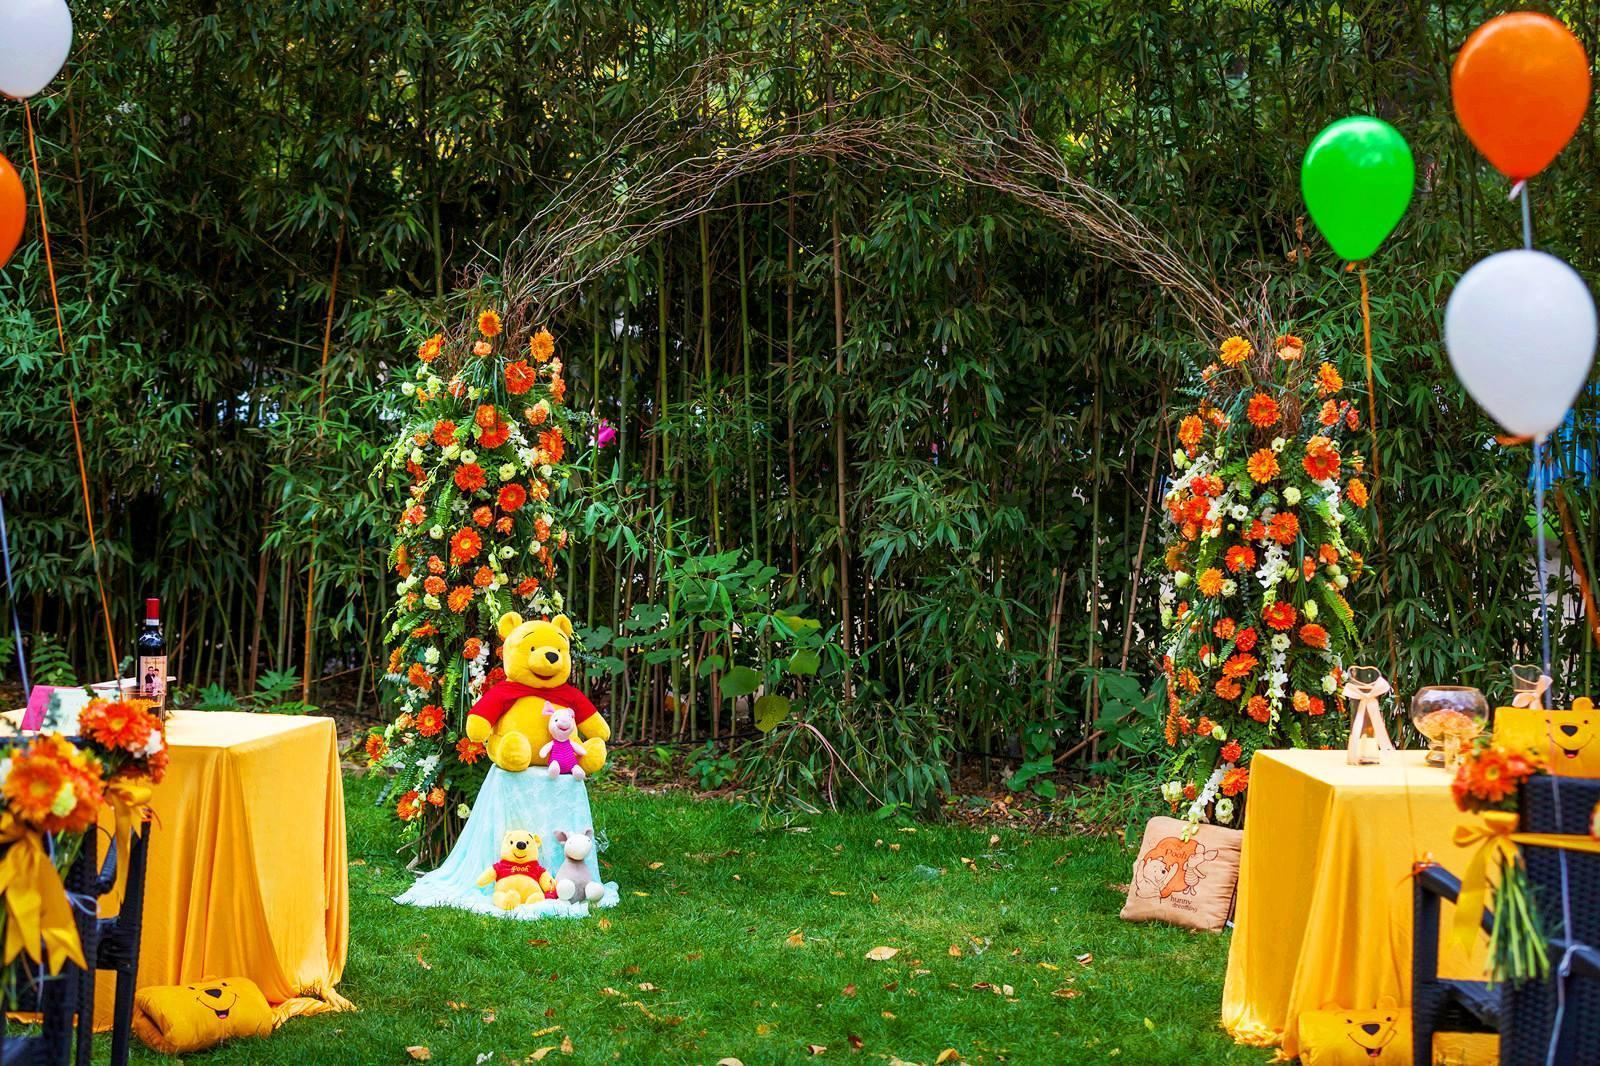Fall-Detected: (408, 598, 635, 927)
